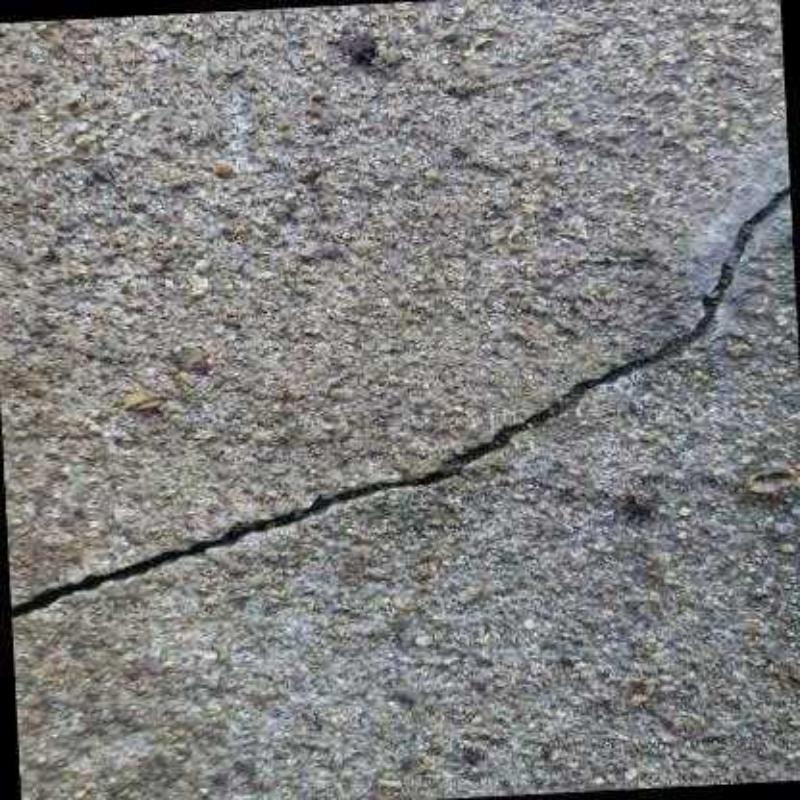pothole: (10, 180, 790, 617)
